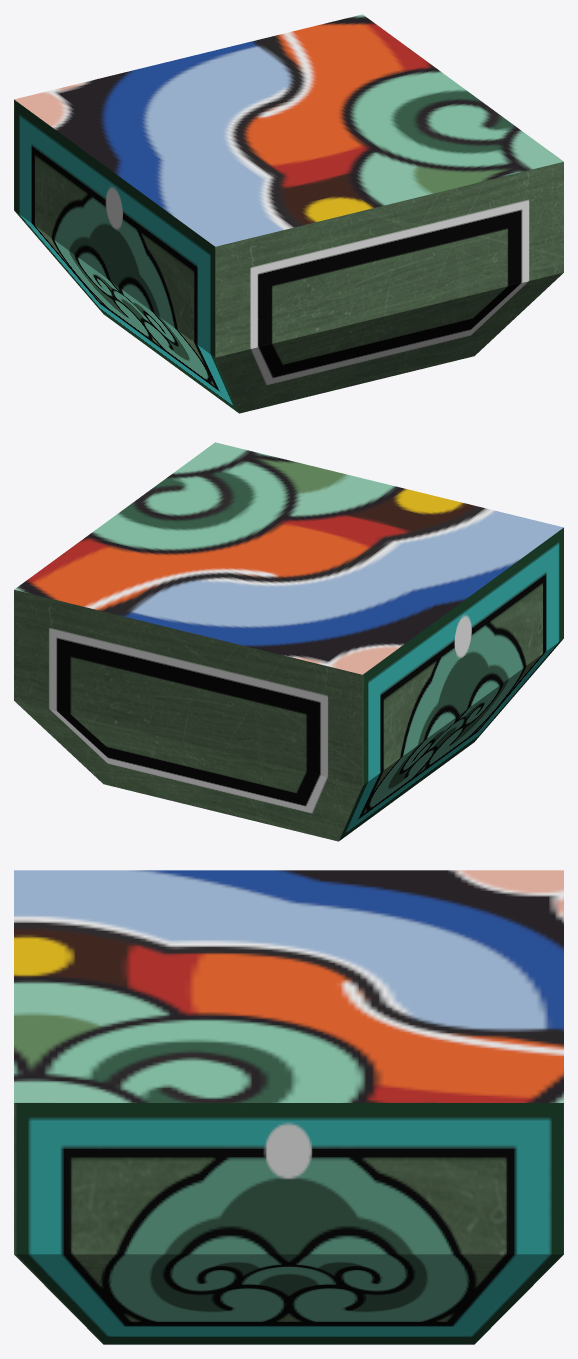
File: SM_Soro02A.fbx
The picture shows the model from 3 angles, top to bottom: view 1: azimuth 30°, elevation 25°; view 2: azimuth 150°, elevation 25°; view 3: azimuth 270°, elevation 25°; orthographic projection. The views are drawn at different scales.
Parts seen in each view (by area): view 1: SM_Soro02A; view 2: SM_Soro02A; view 3: SM_Soro02A.
Boxes of the visible parts, bbox=[...] form: SM_Soro02A: bbox=[14, 14, 563, 413]; SM_Soro02A: bbox=[14, 442, 563, 841]; SM_Soro02A: bbox=[14, 870, 563, 1344].
Bounding box in the file's own units: 16.15 × 16.15 × 9.06.
